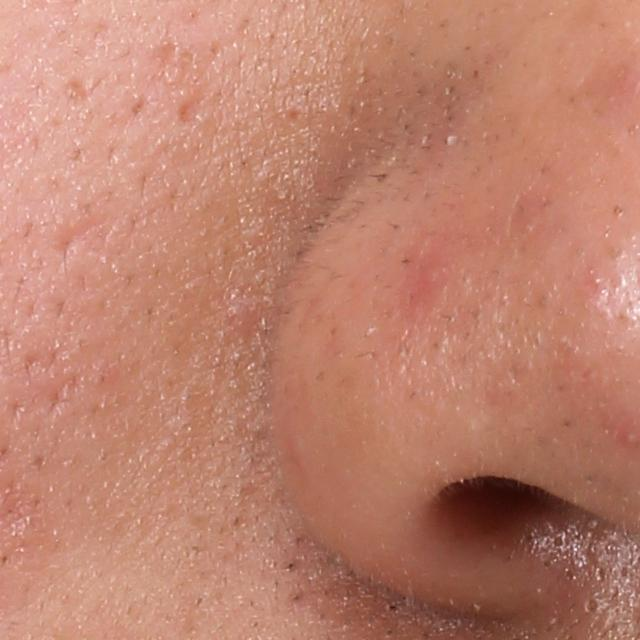atrophic_scar: (52, 209, 100, 259), (174, 85, 213, 125), (62, 76, 94, 106)
comedo: (580, 595, 604, 621)
